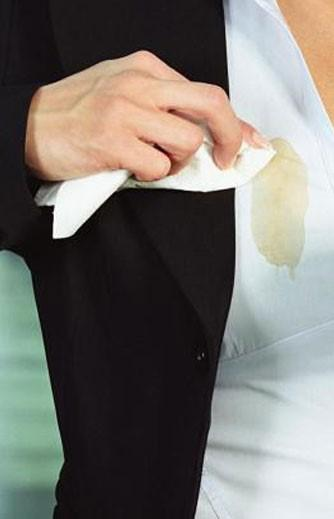gun: (245, 129, 313, 304)
